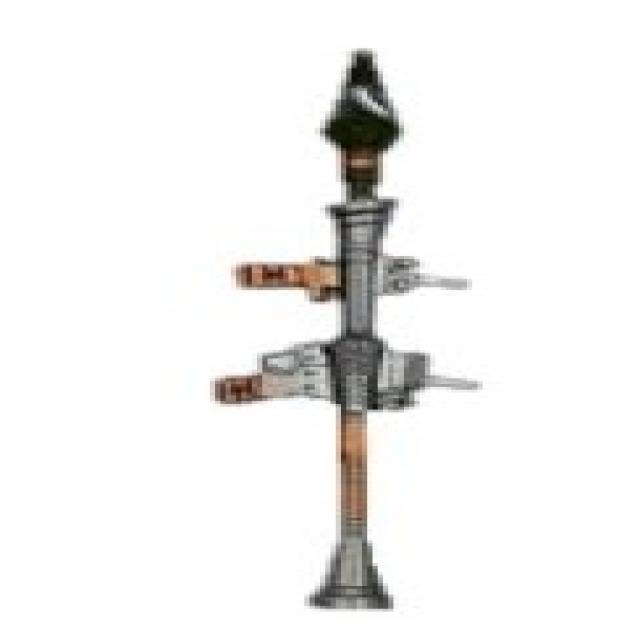bazooka: (196, 42, 509, 619)
